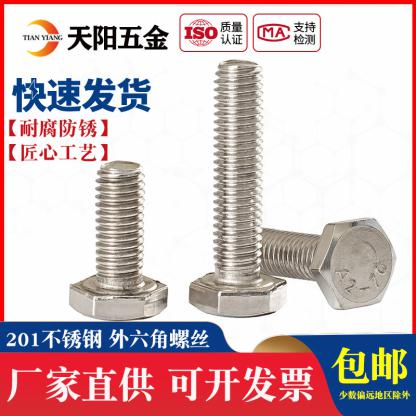FOD: (186, 57, 288, 319), (67, 160, 170, 320), (252, 216, 396, 311)
